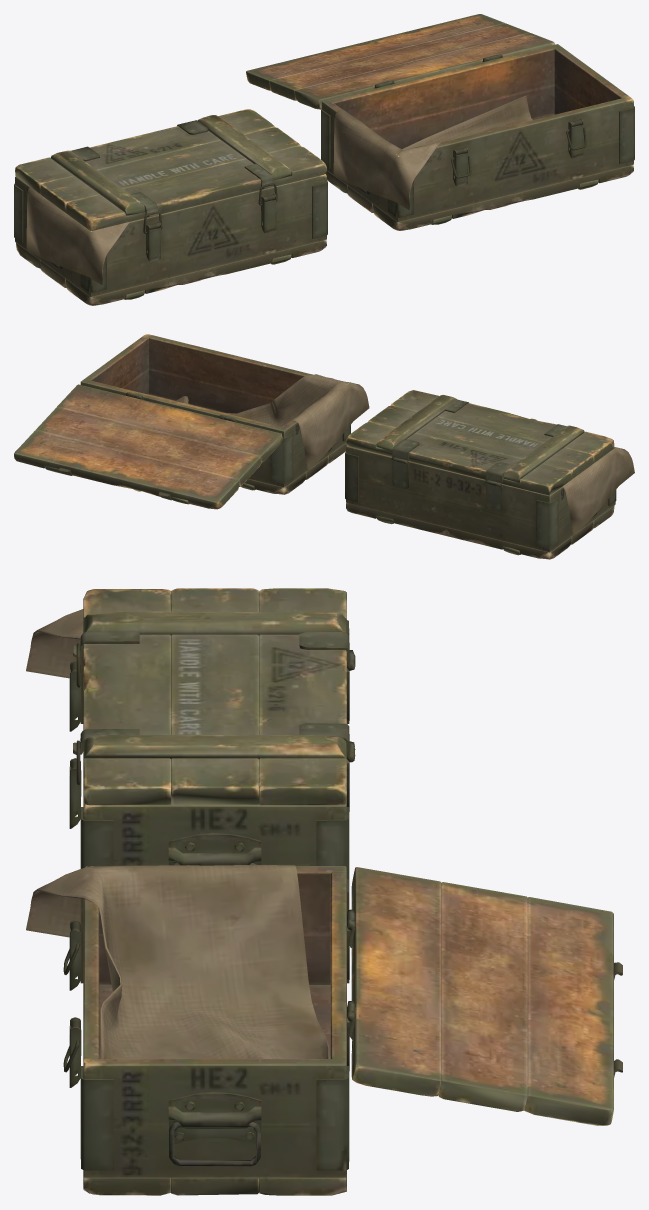
File: crateMilitary.glb
3 views of the same model, one above another, from view 1: azimuth 30°, elevation 25°; view 2: azimuth 150°, elevation 25°; view 3: azimuth 270°, elevation 25° (orthographic). The views are drawn at different scales.
Parts seen in each view (by area): view 1: old_military_crate_b, old_military_crate_lid_a, old_military_crate_a, old_military_crate_lid_b, old_military_crate_cloth_b, old_military_crate_cloth_a, old_military_crate_latch_a, old_military_crate_latch_b; view 2: old_military_crate_lid_b, old_military_crate_lid_a, old_military_crate_a, old_military_crate_b, old_military_crate_cloth_b, old_military_crate_cloth_a; view 3: old_military_crate_lid_a, old_military_crate_lid_b, old_military_crate_b, old_military_crate_cloth_b, old_military_crate_a, old_military_crate_cloth_a, old_military_crate_latch_b, old_military_crate_latch_a.
Boxes of the visible parts, bbox=[...] form: old_military_crate_b: bbox=[321, 44, 634, 230]; old_military_crate_lid_a: bbox=[15, 109, 326, 230]; old_military_crate_a: bbox=[14, 174, 327, 305]; old_military_crate_lid_b: bbox=[246, 14, 555, 109]; old_military_crate_cloth_b: bbox=[333, 95, 532, 209]; old_military_crate_cloth_a: bbox=[26, 187, 129, 284]; old_military_crate_latch_a: bbox=[146, 194, 276, 261]; old_military_crate_latch_b: bbox=[453, 119, 583, 186]; old_military_crate_lid_b: bbox=[14, 384, 282, 509]; old_military_crate_lid_a: bbox=[346, 390, 614, 495]; old_military_crate_a: bbox=[345, 446, 616, 559]; old_military_crate_b: bbox=[80, 334, 350, 494]; old_military_crate_cloth_b: bbox=[174, 374, 369, 470]; old_military_crate_cloth_a: bbox=[562, 447, 634, 535]; old_military_crate_lid_a: bbox=[73, 588, 355, 805]; old_military_crate_lid_b: bbox=[347, 867, 622, 1125]; old_military_crate_b: bbox=[80, 866, 355, 1195]; old_military_crate_cloth_b: bbox=[26, 865, 329, 1058]; old_military_crate_a: bbox=[80, 620, 355, 886]; old_military_crate_cloth_a: bbox=[26, 609, 83, 678]; old_military_crate_latch_b: bbox=[69, 920, 81, 1087]; old_military_crate_latch_a: bbox=[69, 661, 81, 828].
Size of the model in its own units: 1.82 by 0.3009 by 0.9743.
Materials: 1 (1 with a texture image).
